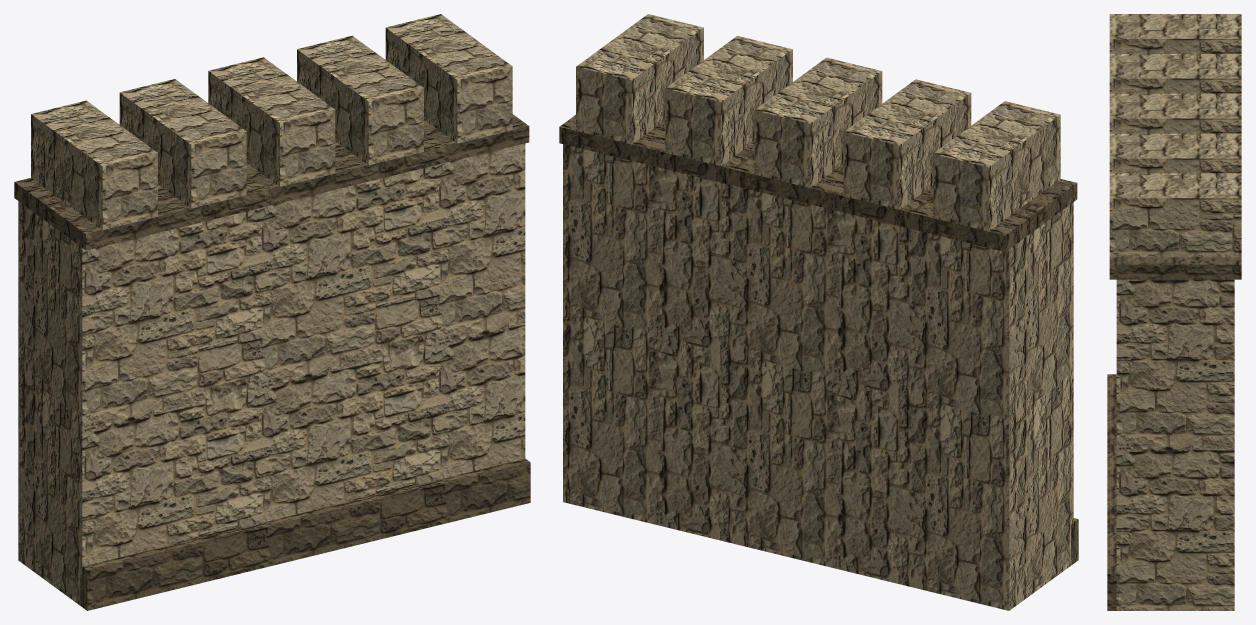
Rendered from city_wall_segment_01.glb.
The picture shows the model from 3 angles, left to right: view 1: azimuth 30°, elevation 25°; view 2: azimuth 150°, elevation 25°; view 3: azimuth 270°, elevation 25°; orthographic projection. The views are drawn at different scales.
Parts seen in each view (by area): view 1: city_wall_segment_01; view 2: city_wall_segment_01; view 3: city_wall_segment_01.
Part boxes in pixels (bbox=[...]): city_wall_segment_01: bbox=[14, 14, 530, 610]; city_wall_segment_01: bbox=[559, 14, 1078, 610]; city_wall_segment_01: bbox=[1107, 14, 1241, 610].
Bounding box in the file's own units: 4 × 3.79 × 1.14.
Materials: 2 (2 with a texture image).
